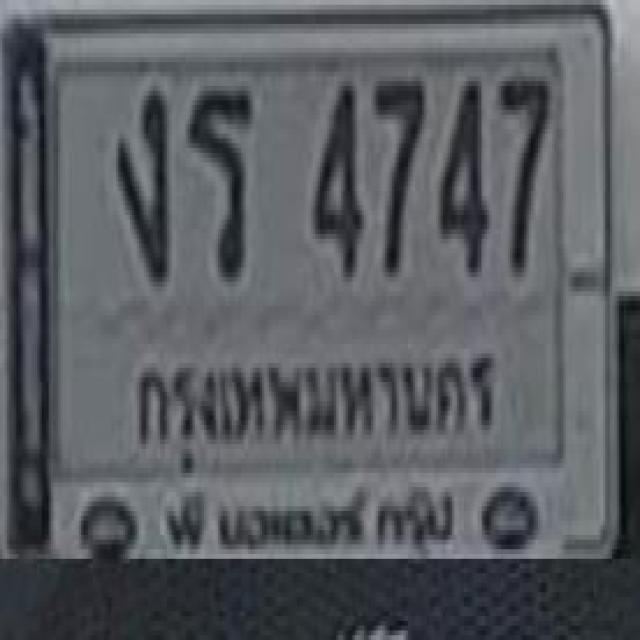license_plate: (2, 14, 620, 562)
